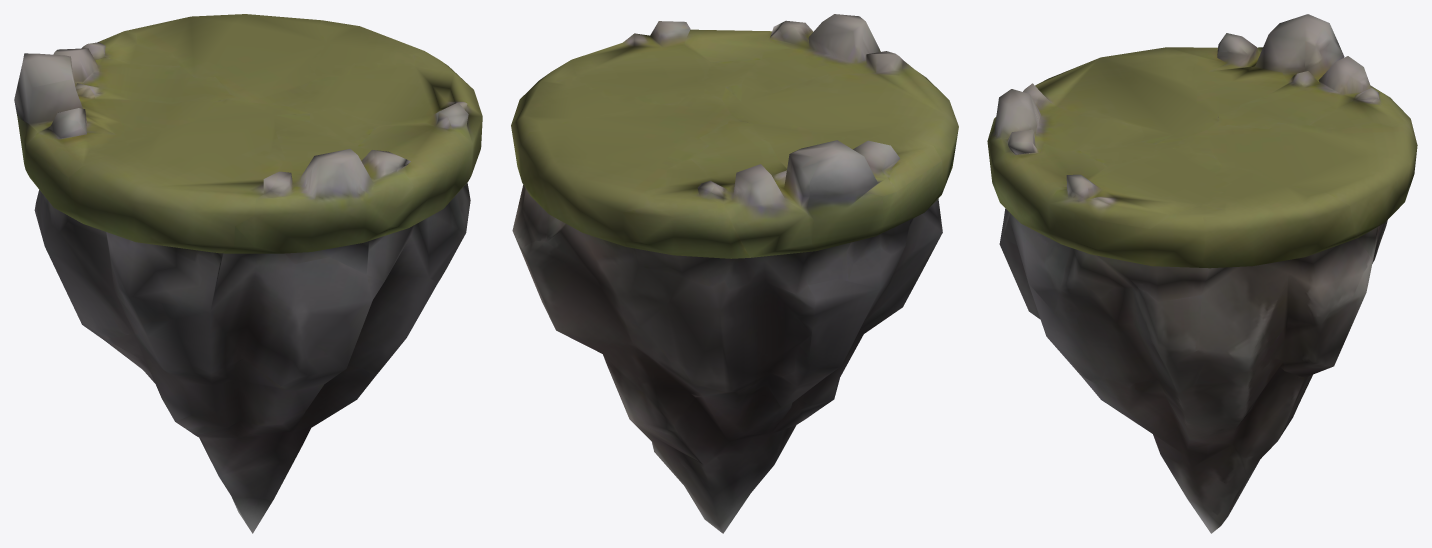
File: island_lo.glb
3 renders of one model, left to right at view 1: azimuth 30°, elevation 25°; view 2: azimuth 150°, elevation 25°; view 3: azimuth 270°, elevation 25°, orthographic. The views are drawn at different scales.
Visible parts, largest first — view 1: tripo_node_d9a2b38a-625c-4ca6-990b-78763eed0803; view 2: tripo_node_d9a2b38a-625c-4ca6-990b-78763eed0803; view 3: tripo_node_d9a2b38a-625c-4ca6-990b-78763eed0803.
Boxes of the visible parts, bbox=[...] form: tripo_node_d9a2b38a-625c-4ca6-990b-78763eed0803: bbox=[14, 14, 482, 533]; tripo_node_d9a2b38a-625c-4ca6-990b-78763eed0803: bbox=[511, 14, 958, 533]; tripo_node_d9a2b38a-625c-4ca6-990b-78763eed0803: bbox=[987, 14, 1417, 533].
Bounding box in the file's own units: 0.8722 × 1 × 0.8818.
1 material, 1 textured.
